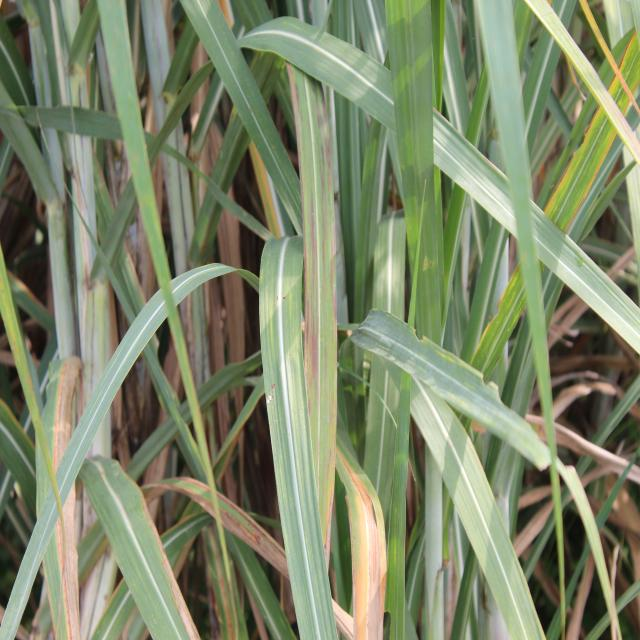Sugarcane: (275, 4, 640, 388), (468, 2, 577, 640), (172, 2, 305, 239), (296, 50, 340, 634), (545, 14, 639, 279), (81, 452, 207, 638), (442, 4, 500, 355), (124, 348, 265, 490), (1, 7, 46, 254), (519, 1, 572, 182), (6, 104, 125, 142)
